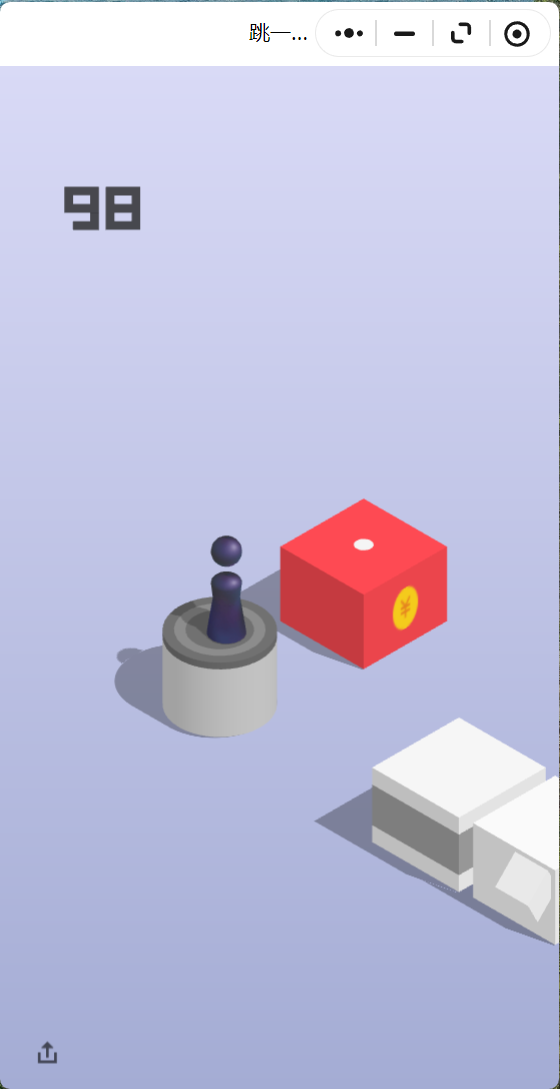piece: (211, 536, 241, 638)
target: (281, 498, 447, 594)
